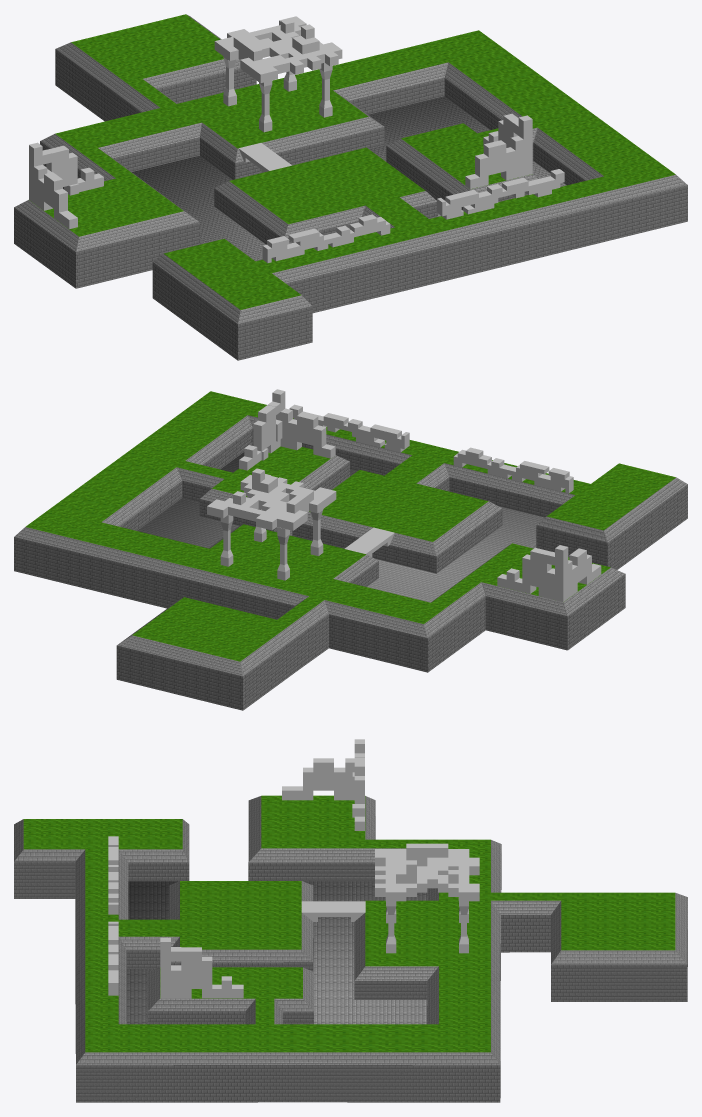
File: map.FBX
3 views of the same model, one above another, from view 1: azimuth 30°, elevation 25°; view 2: azimuth 150°, elevation 25°; view 3: azimuth 270°, elevation 25° (orthographic). The views are drawn at different scales.
Parts seen in each view (by area): view 1: map; view 2: map; view 3: map.
Boxes of the visible parts, left/top/right/bottom form: map: left=14, top=14, right=687, bottom=360; map: left=14, top=389, right=687, bottom=710; map: left=14, top=739, right=687, bottom=1102.
Bounding box in the file's own units: 60.35 × 13.98 × 64.89.
